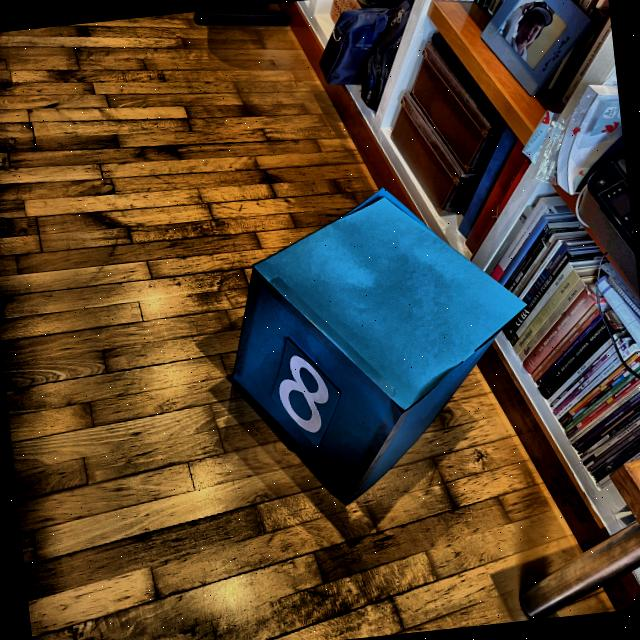blue box: (203, 178, 526, 518)
eight: (270, 340, 334, 440)
